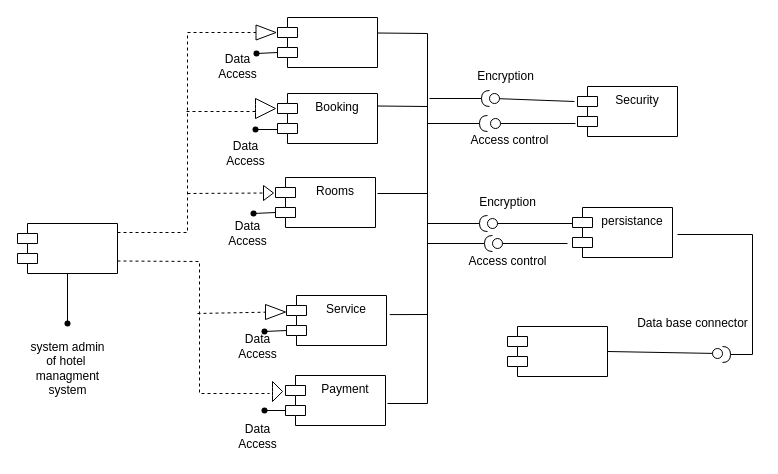
This 778x474 diagram has some shape labels left out. Each missing label, with the centre of its shape:
Data base: (x=557, y=351)
Hotel: (x=327, y=42)
Hotel Managment system: (x=67, y=248)
